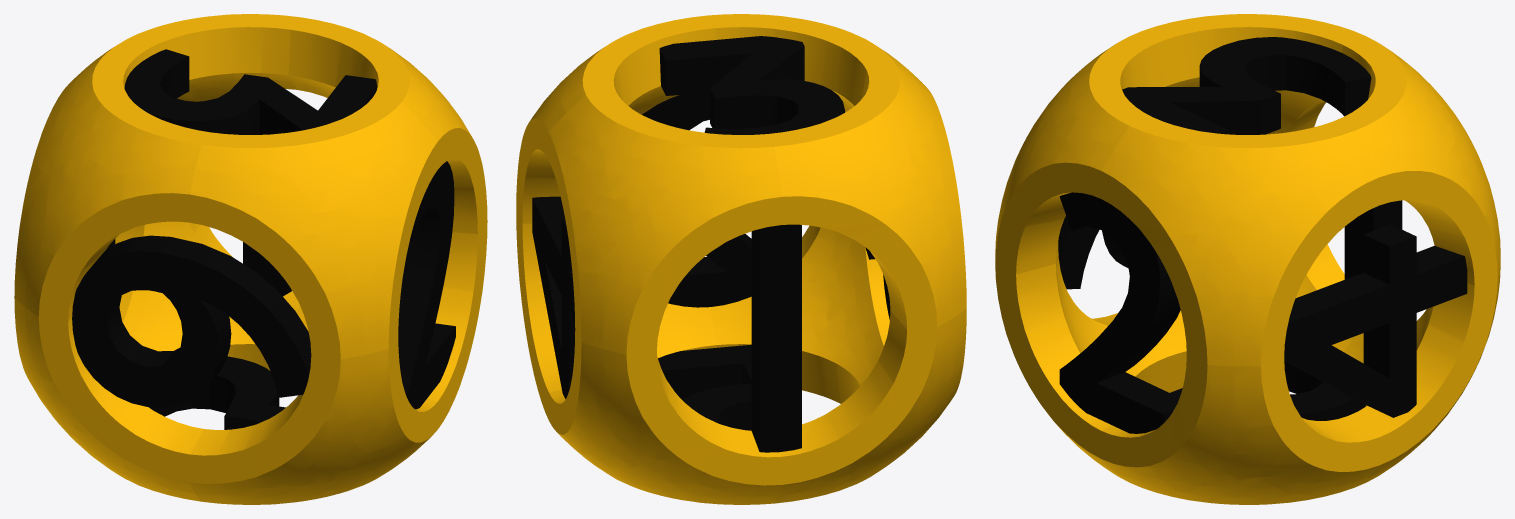
File: 3dice.glb
The picture shows the model from 3 angles, left to right: view 1: azimuth 30°, elevation 25°; view 2: azimuth 150°, elevation 25°; view 3: azimuth 270°, elevation 25°; orthographic projection.
Visible parts, largest first — view 1: dice; view 2: dice; view 3: dice.
Part boxes in pixels (box(x1,y1,x2,y2)): dice: box(14, 14, 487, 504); dice: box(516, 14, 966, 504); dice: box(995, 14, 1500, 504).
Size of the model in its own units: 26.1 by 20.32 by 26.1.
